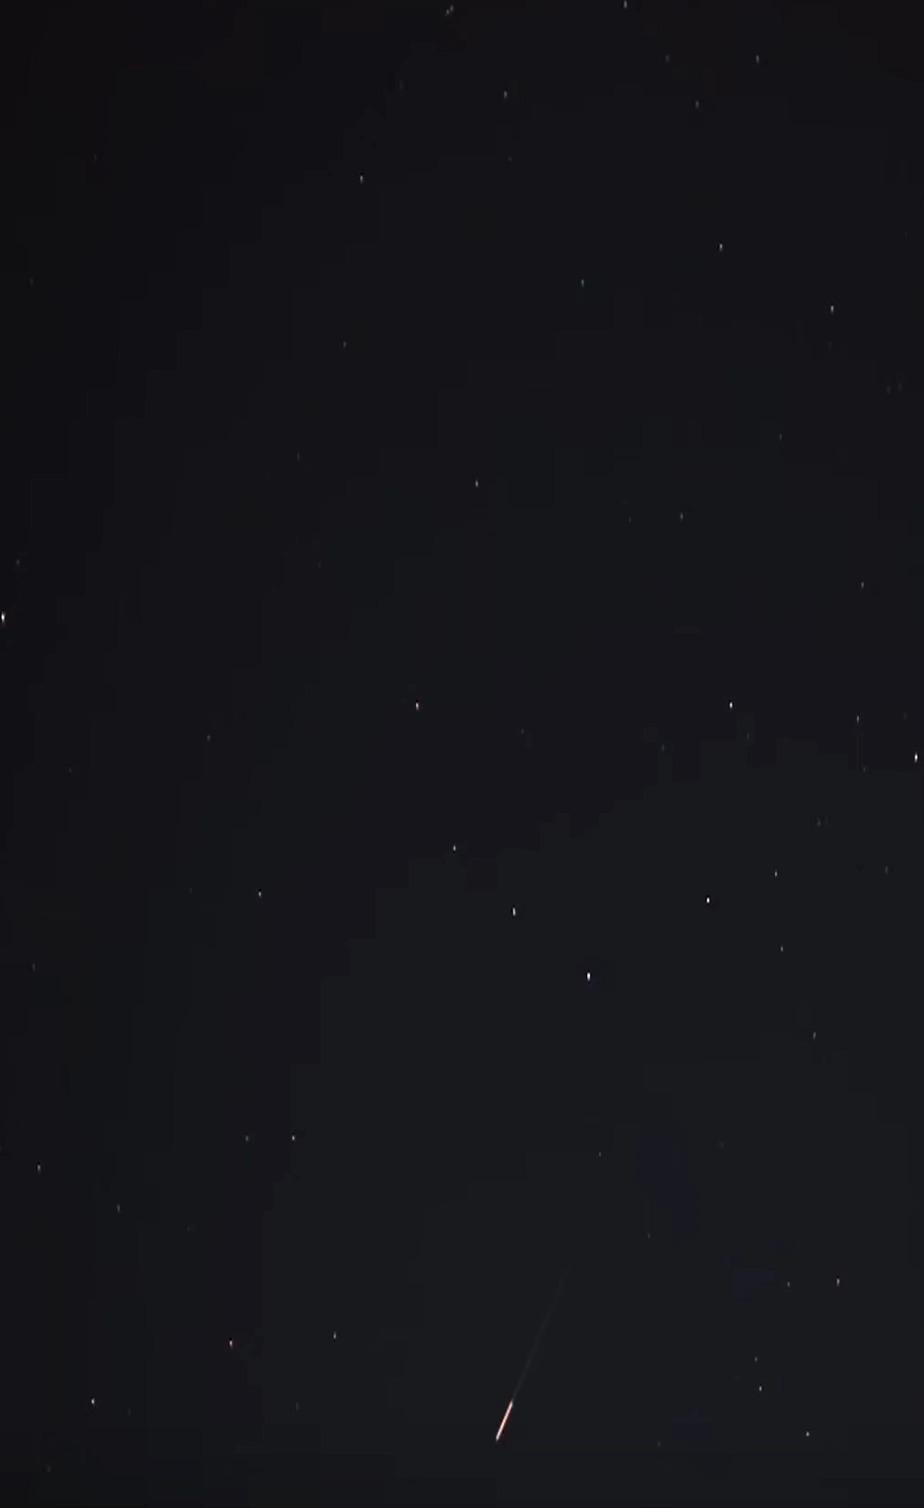meteorite: (470, 1259, 593, 1450)
